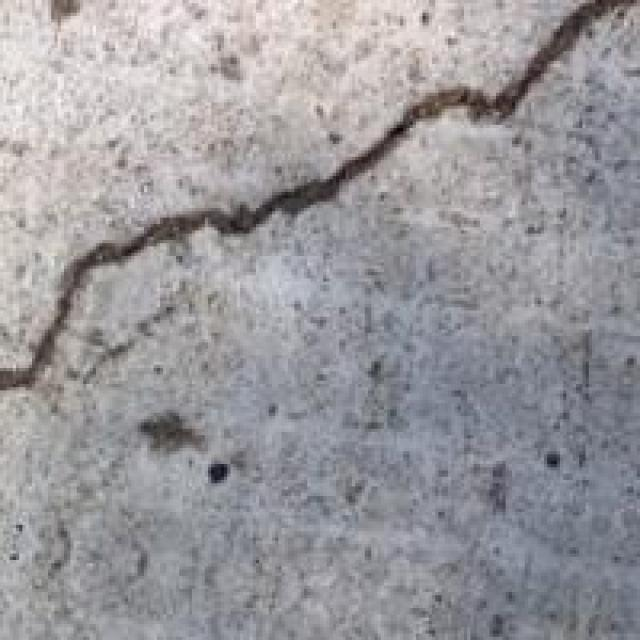Crack: (0, 4, 621, 406)
